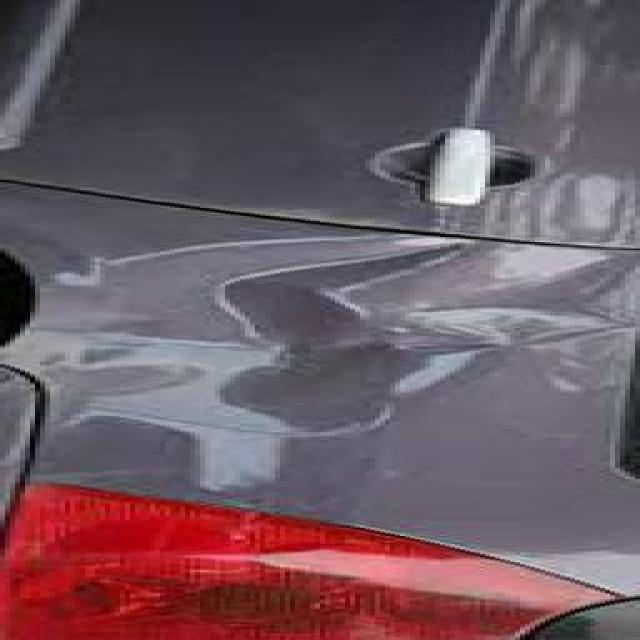dent: (0, 188, 575, 458)
